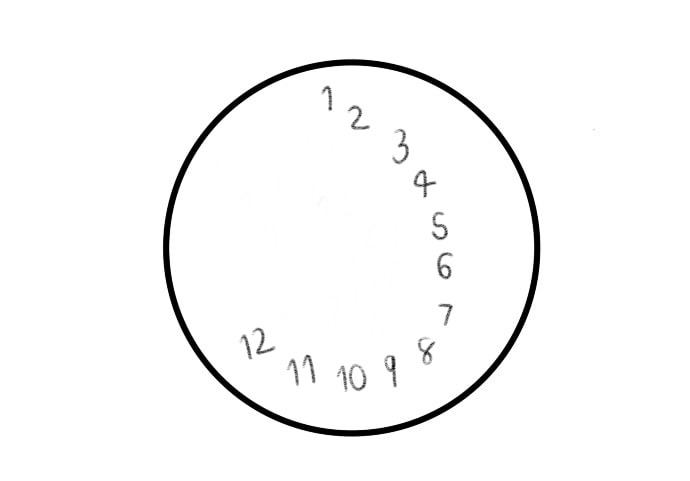eight: (416, 336, 435, 366)
eleven: (286, 352, 316, 388)
five: (431, 208, 448, 241)
four: (412, 162, 436, 200)
nine: (383, 353, 400, 388)
one: (319, 80, 335, 112)
seven: (436, 300, 455, 327)
six: (434, 250, 454, 279)
ten: (334, 364, 367, 396)
three: (390, 126, 408, 166)
twelve: (236, 327, 277, 361)
two: (346, 102, 373, 131)
